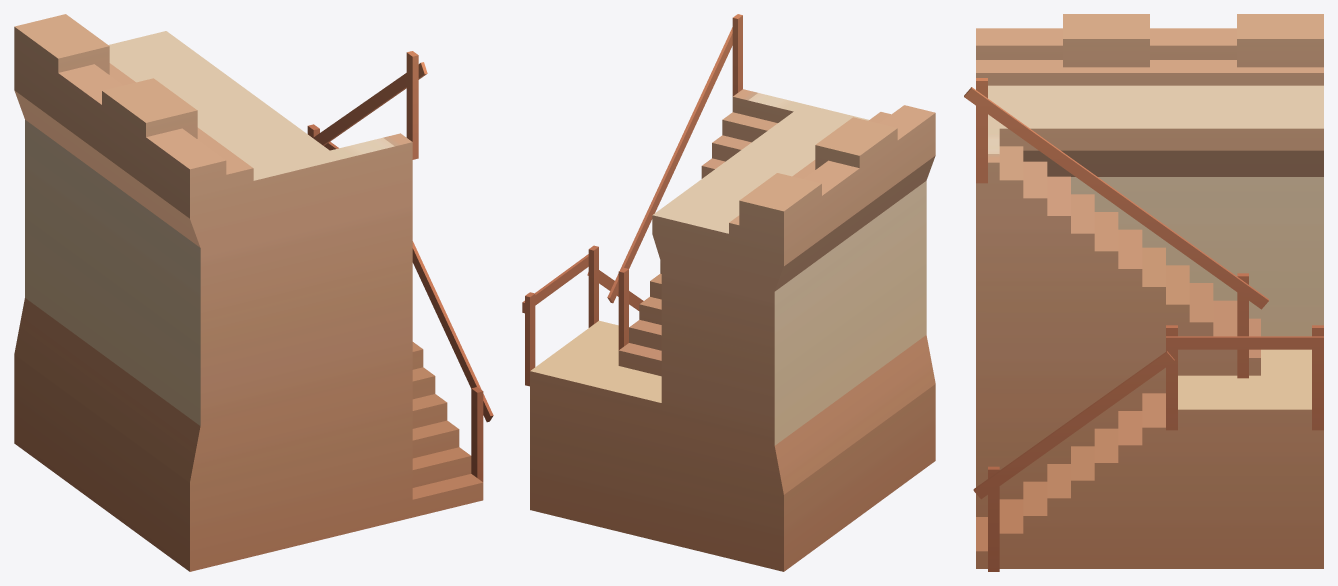
File: kenney-castle-wall-narrow-stairs-rail.glb
3 views of the same model, side by side, from view 1: azimuth 30°, elevation 25°; view 2: azimuth 150°, elevation 25°; view 3: azimuth 270°, elevation 25° (orthographic). The views are drawn at different scales.
Parts seen in each view (by area): view 1: wall-narrow-stairs-rail; view 2: wall-narrow-stairs-rail; view 3: wall-narrow-stairs-rail.
Part boxes in pixels (x1=…): wall-narrow-stairs-rail: x1=14, y1=14, x2=493, y2=571; wall-narrow-stairs-rail: x1=522, y1=14, x2=935, y2=571; wall-narrow-stairs-rail: x1=964, y1=14, x2=1323, y2=571.
Bounding box in the file's own units: 0.9949 × 1.45 × 1.03.
Materials: 1 (1 with a texture image).
